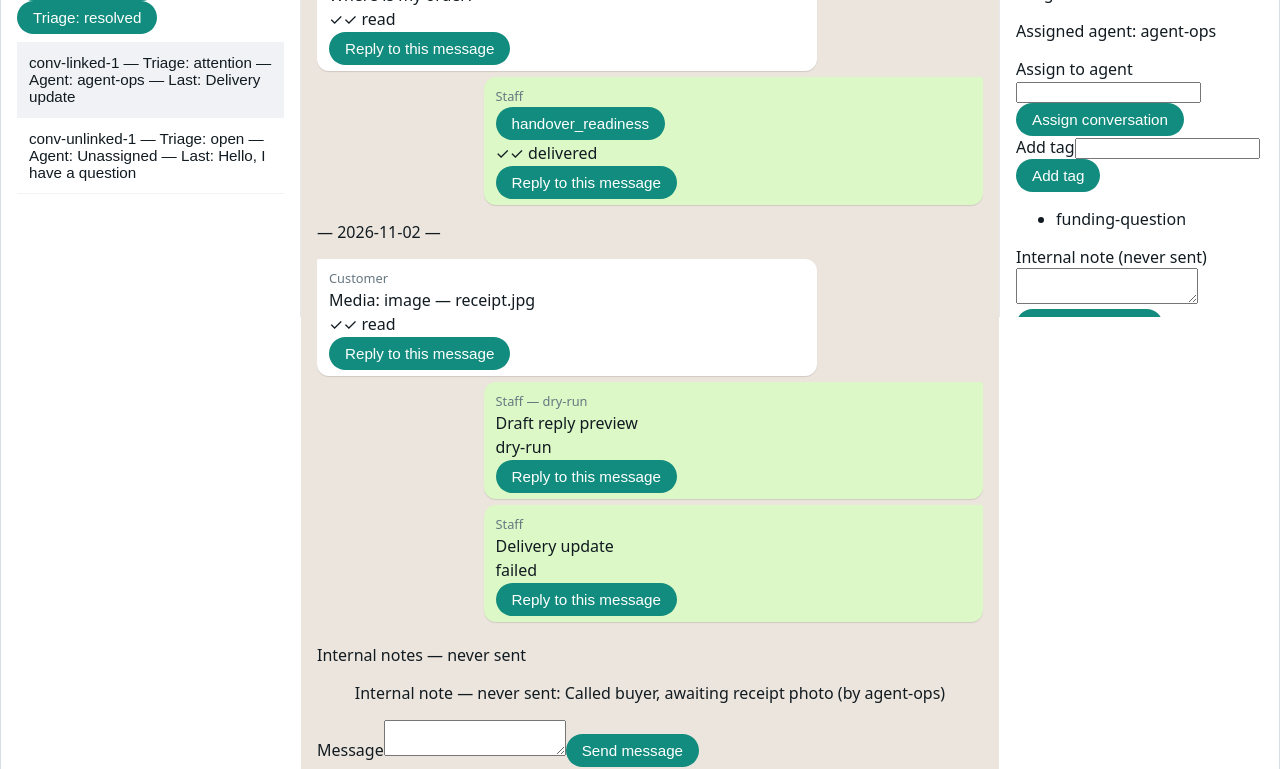
it: inbox triptych (Sprint 4, PB-13) › composer without a backend shows the not-connected notice and sends nothing
(page scrolled)
Type "Hello from staff" into the text box labelled "Message" at (475, 738), box [384,720,566,756]
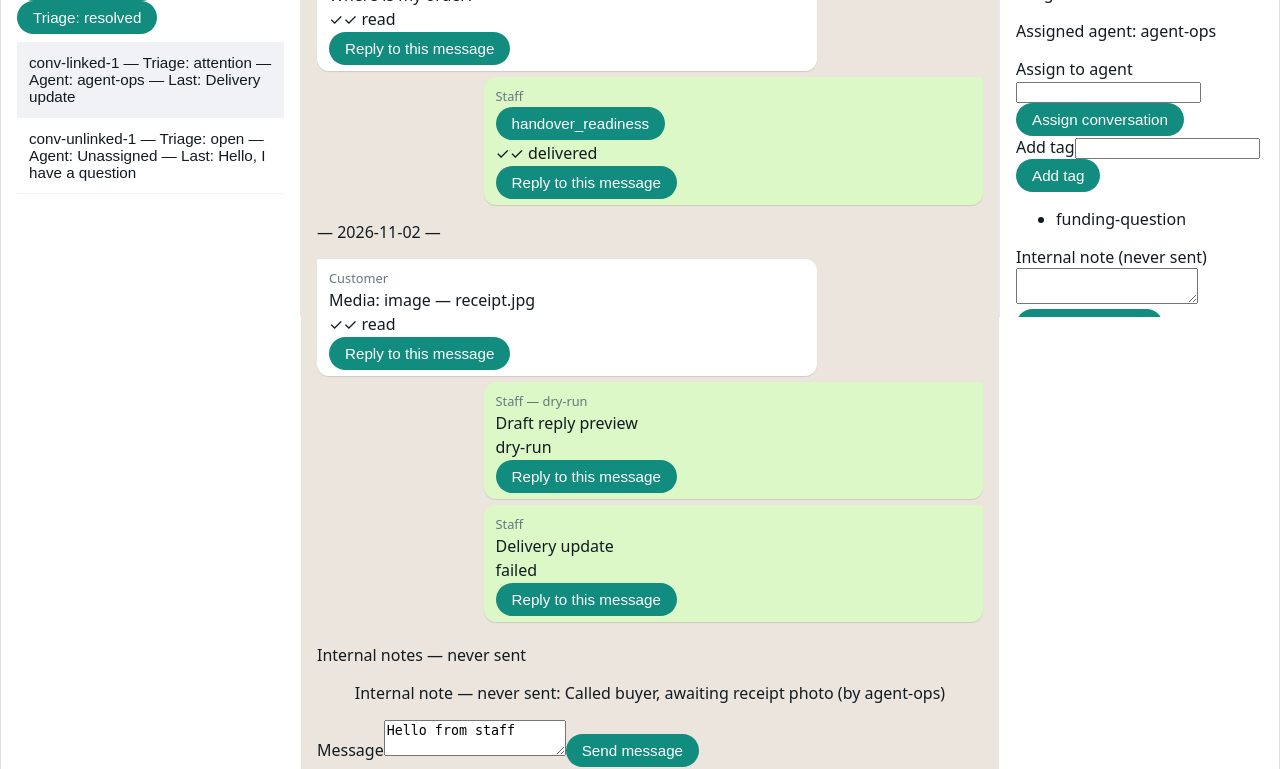
Click the button "Send message" at (632, 750), box [566,734,699,767]
(page scrolled)
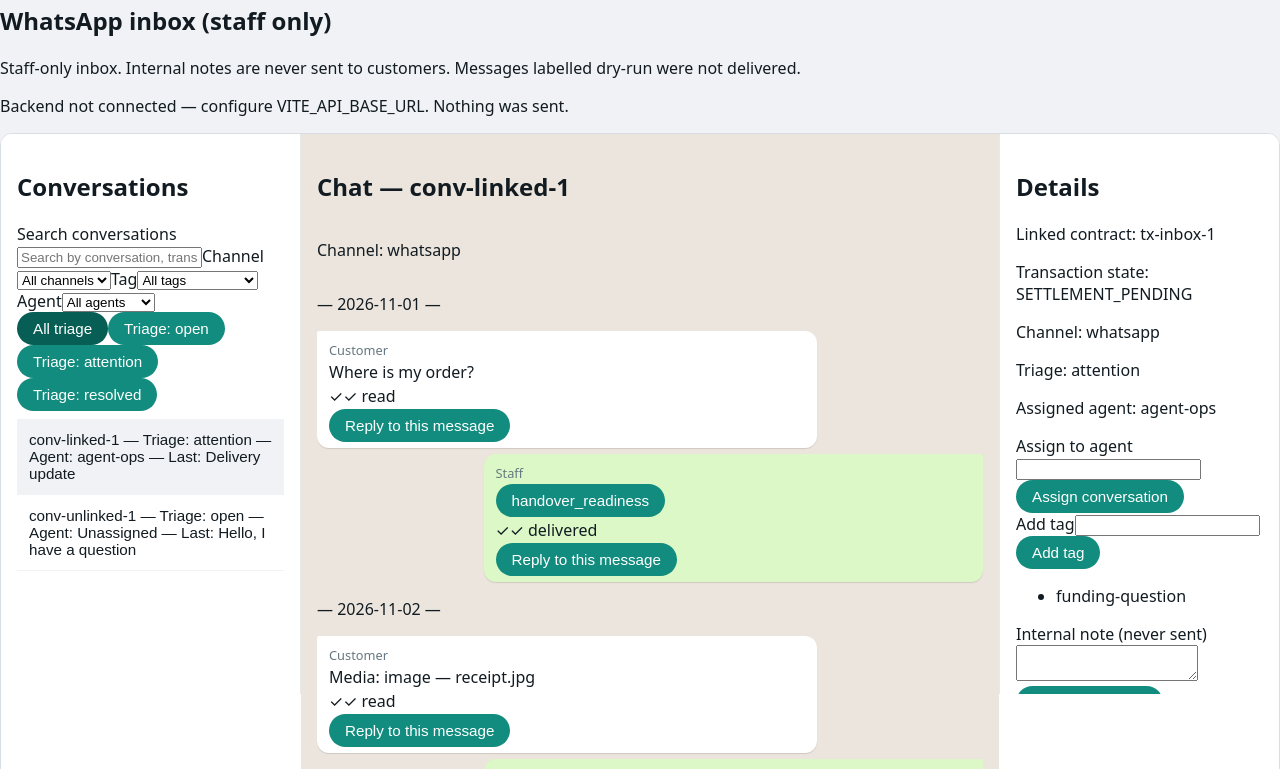
Now the text "Backend not connected — configure VITE_API_BASE_URL. Nothing was sent." is shown, box [0,95,569,117]
